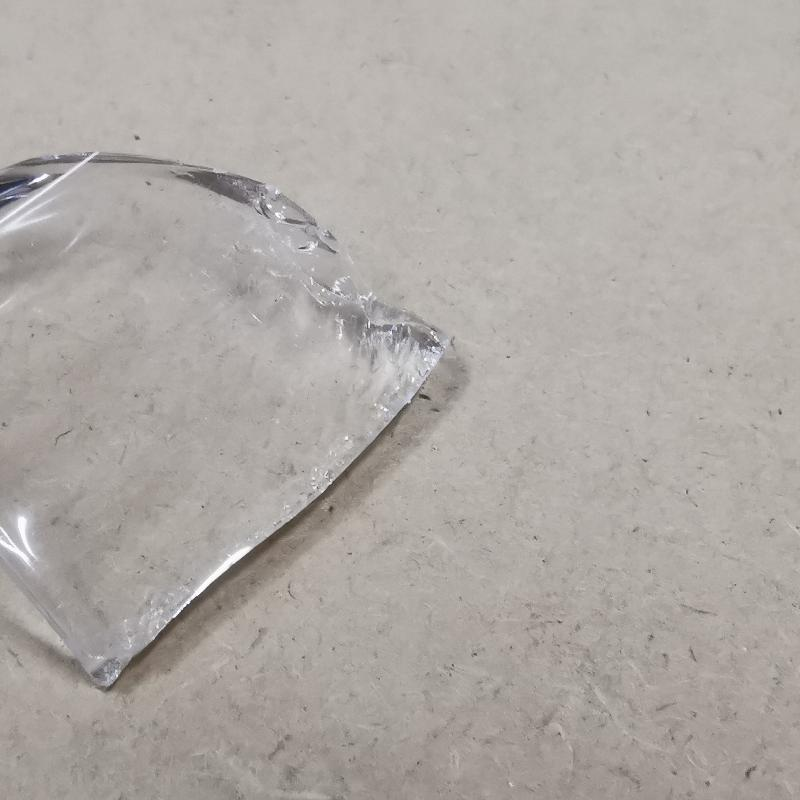glass: (2, 136, 459, 691)
